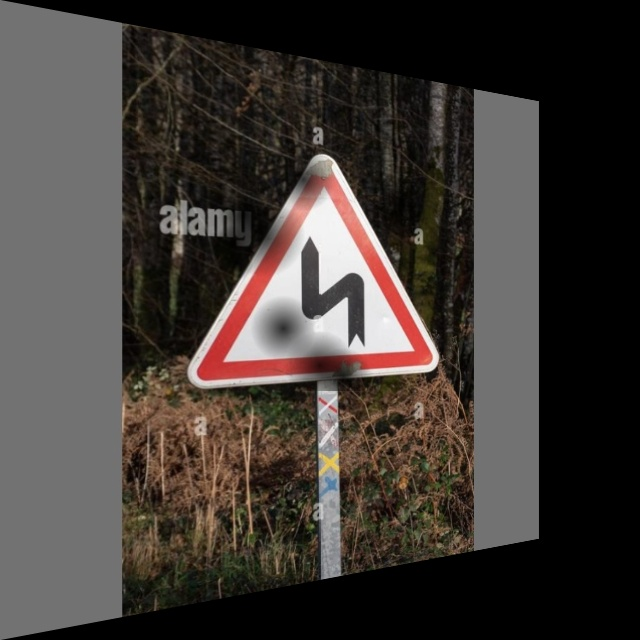Left_Reverse_Bend: (188, 140, 444, 391)
